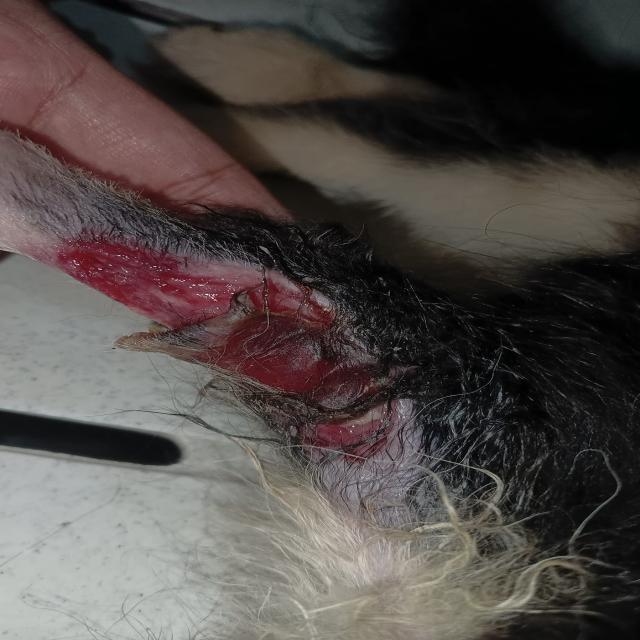hac lao: (30, 206, 478, 470)
